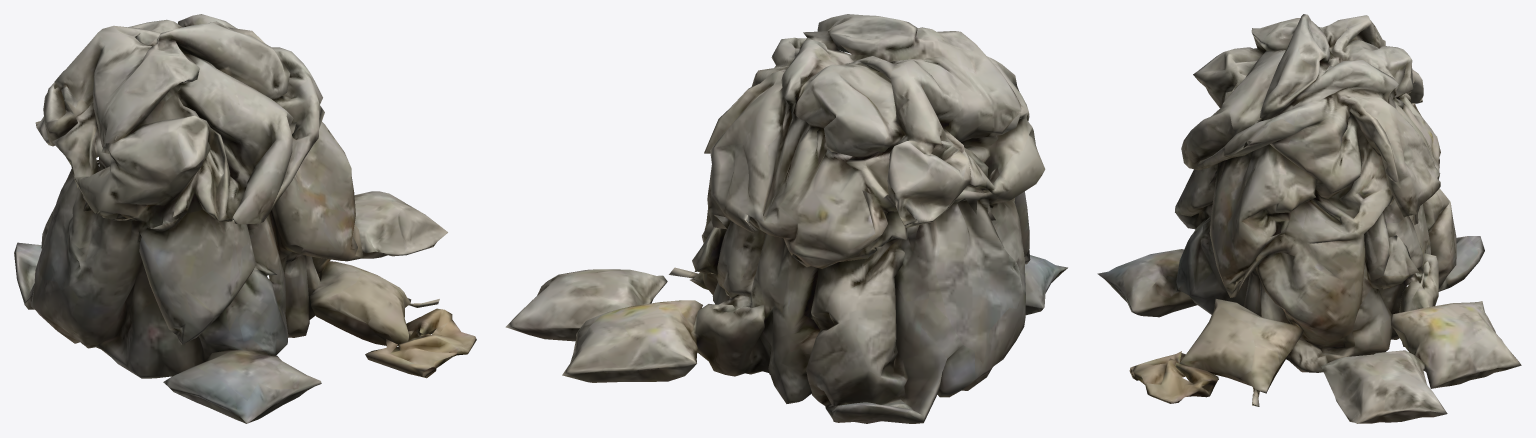
The model's file is st_linen.glb.
3 renders of one model, left to right at view 1: azimuth 30°, elevation 25°; view 2: azimuth 150°, elevation 25°; view 3: azimuth 270°, elevation 25°, orthographic. The views are drawn at different scales.
Visible parts, largest first — view 1: tripo_node_370d8698-86cf-46fc-b6fc-b33f2f8a89a1; view 2: tripo_node_370d8698-86cf-46fc-b6fc-b33f2f8a89a1; view 3: tripo_node_370d8698-86cf-46fc-b6fc-b33f2f8a89a1.
Part boxes in pixels (left/top/right/bottom): tripo_node_370d8698-86cf-46fc-b6fc-b33f2f8a89a1: left=14, top=14, right=476, bottom=423; tripo_node_370d8698-86cf-46fc-b6fc-b33f2f8a89a1: left=505, top=14, right=1067, bottom=423; tripo_node_370d8698-86cf-46fc-b6fc-b33f2f8a89a1: left=1097, top=14, right=1521, bottom=423.
Size of the model in its own units: 1 by 0.738 by 0.9781.
1 material, 1 textured.
